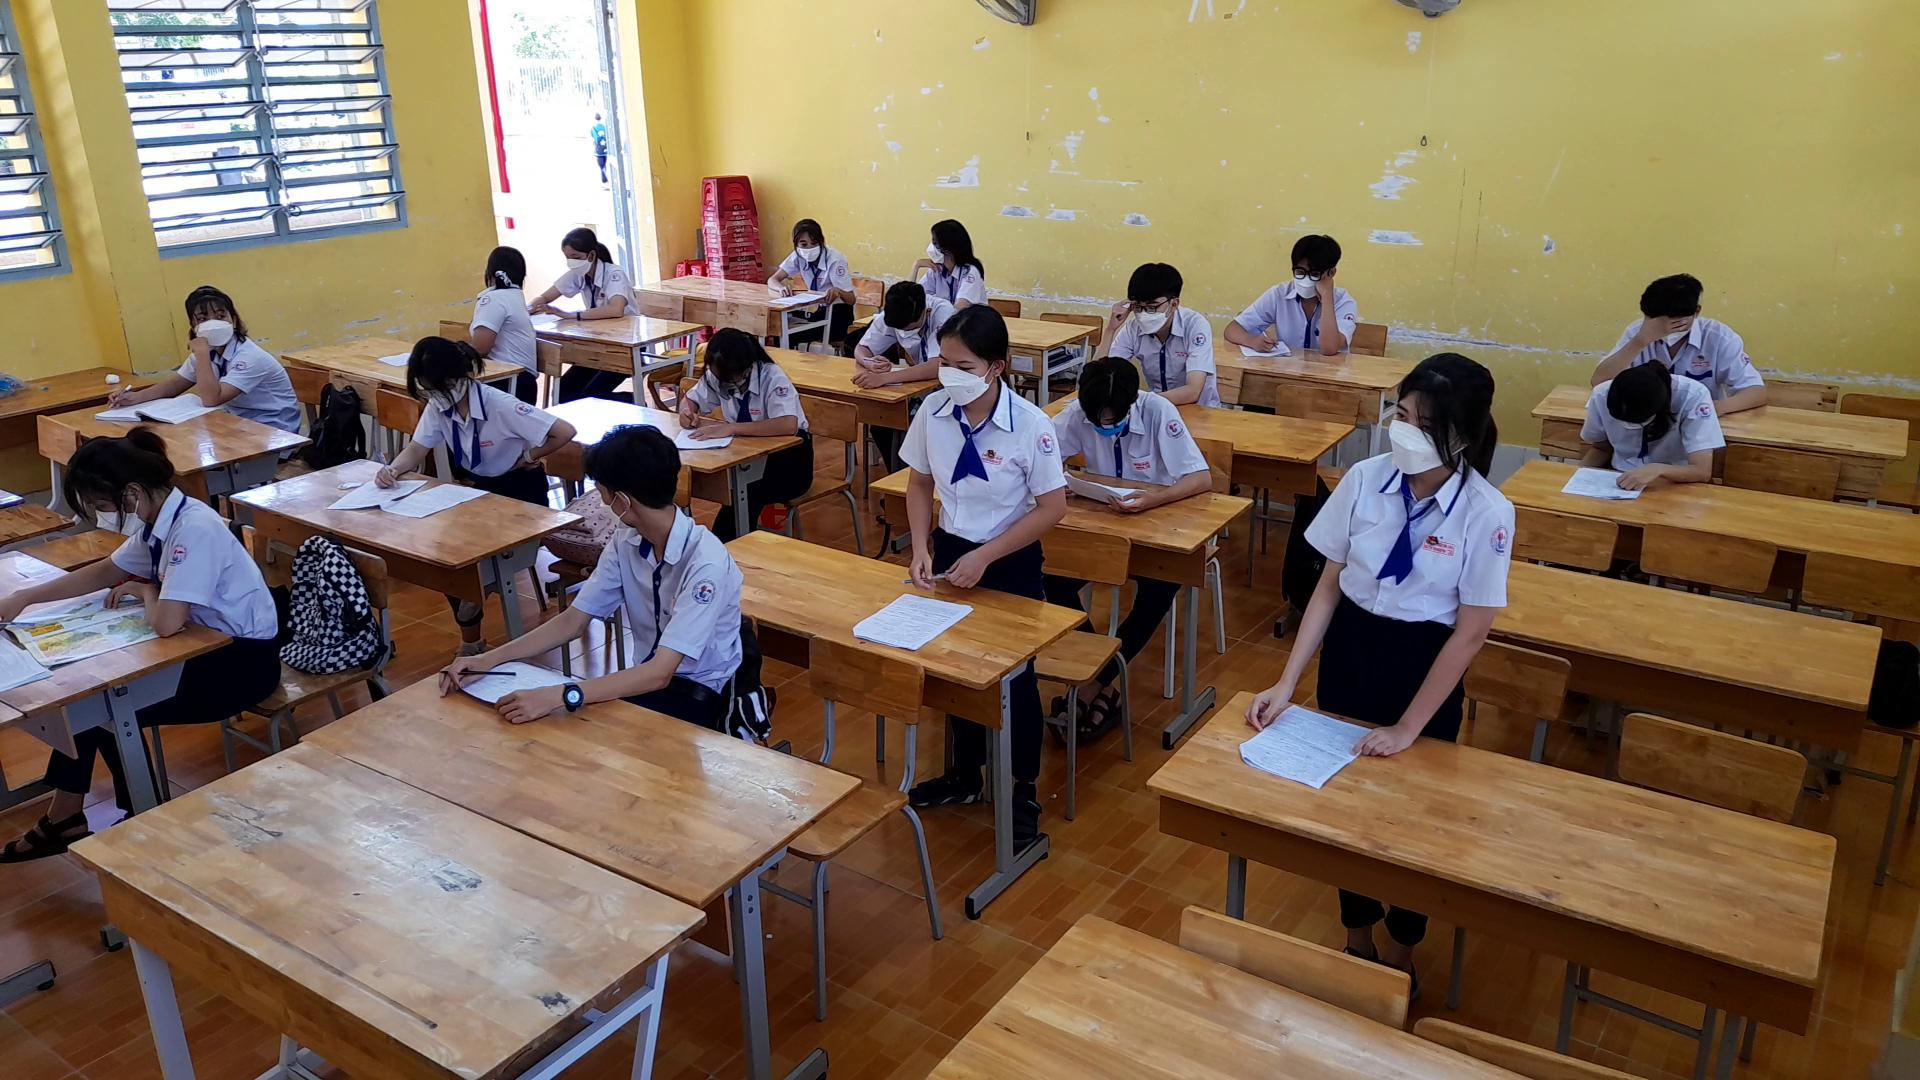Bend Over The Desk: (1596, 357, 1684, 443)
Hand Under Table: (1572, 381, 1611, 481)
Look Around: (571, 423, 680, 541), (464, 225, 539, 294)
Normal: (25, 421, 284, 642), (1040, 349, 1217, 521), (674, 319, 814, 444), (835, 266, 945, 392), (752, 196, 861, 322), (530, 210, 646, 327)
Stand Up: (1247, 342, 1524, 764), (884, 291, 1069, 611)
Wave: (496, 388, 582, 475), (185, 326, 261, 407), (1302, 269, 1356, 363), (1076, 293, 1145, 357)
